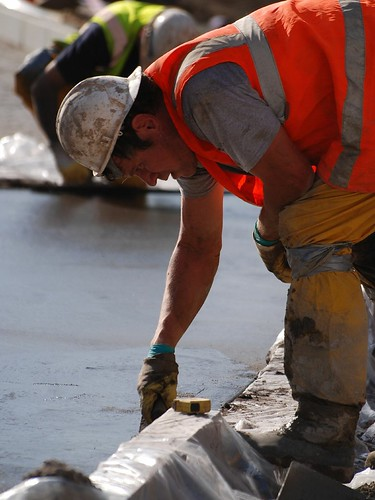person hardhat: (55, 2, 372, 491), (28, 5, 192, 191)
